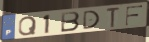1: (42, 13, 52, 35)
B: (60, 11, 81, 33)
D: (82, 10, 101, 31)
F: (124, 4, 144, 27)
Q: (17, 15, 38, 37)
T: (106, 7, 122, 29)
